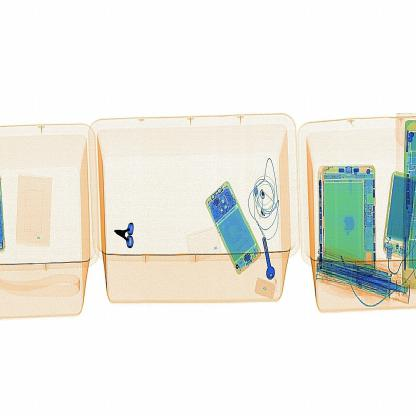gun: (111, 218, 141, 258)
